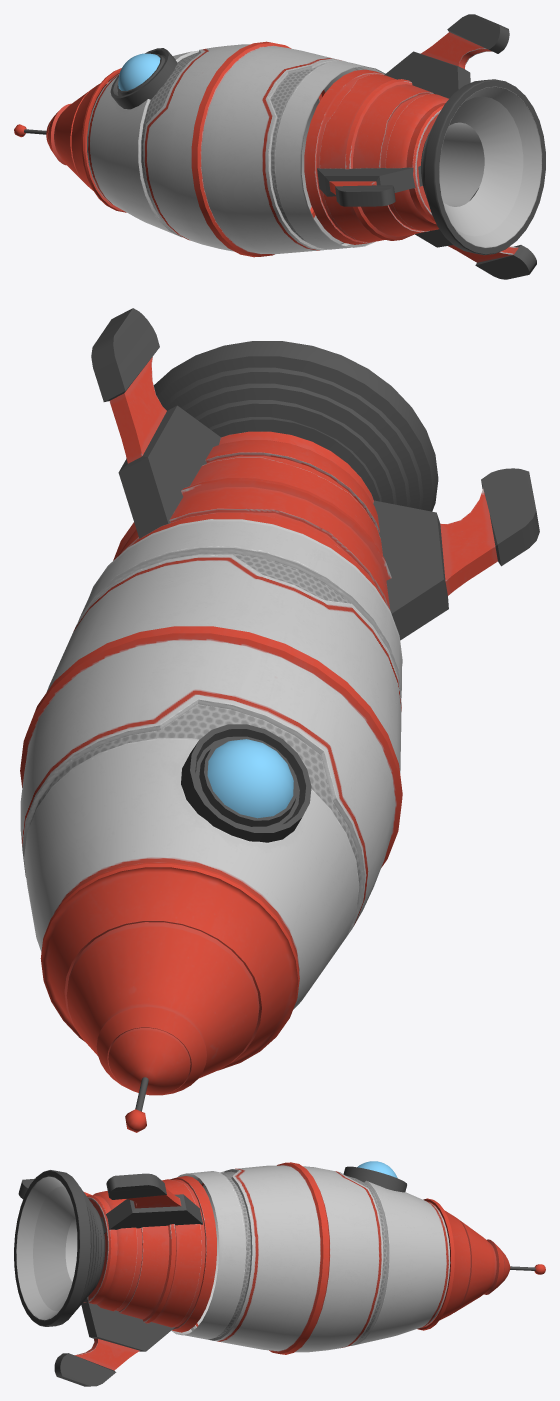
The model's file is RocketA1.fbx.
3 views of the same model, one above another, from view 1: azimuth 30°, elevation 25°; view 2: azimuth 150°, elevation 25°; view 3: azimuth 270°, elevation 25° (orthographic). The views are drawn at different scales.
Visible parts, largest first — view 1: RocketA1; view 2: RocketA1; view 3: RocketA1.
Boxes of the visible parts, <box> form: RocketA1: <box>14,14,545,279</box>; RocketA1: <box>20,308,539,1132</box>; RocketA1: <box>14,1161,545,1386</box>.
Size of the model in its own units: 1.63 by 1.47 by 3.03.
